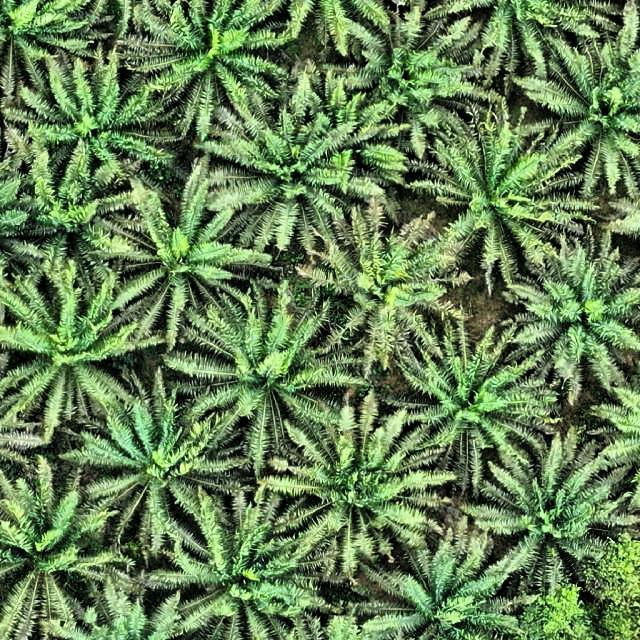Kelapa_Sawit: (257, 391, 459, 590), (196, 76, 404, 262), (409, 102, 599, 298), (86, 164, 274, 352), (288, 200, 474, 384), (64, 370, 244, 556), (463, 404, 637, 596), (136, 481, 337, 640), (378, 316, 564, 487), (1, 258, 142, 450), (327, 8, 500, 156), (2, 453, 134, 640), (504, 228, 640, 406), (116, 1, 292, 133), (6, 141, 150, 295), (513, 28, 640, 191), (17, 59, 164, 197), (362, 533, 523, 640), (0, 0, 113, 93)
